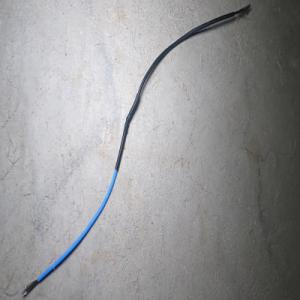Wire: (21, 3, 251, 297)
